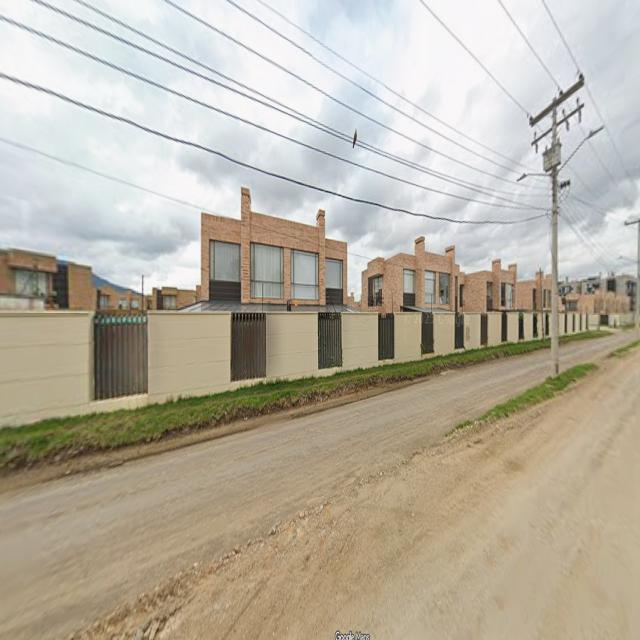Casa: (187, 187, 349, 381), (0, 249, 98, 426), (361, 237, 464, 360), (464, 260, 518, 343), (516, 270, 552, 339)
